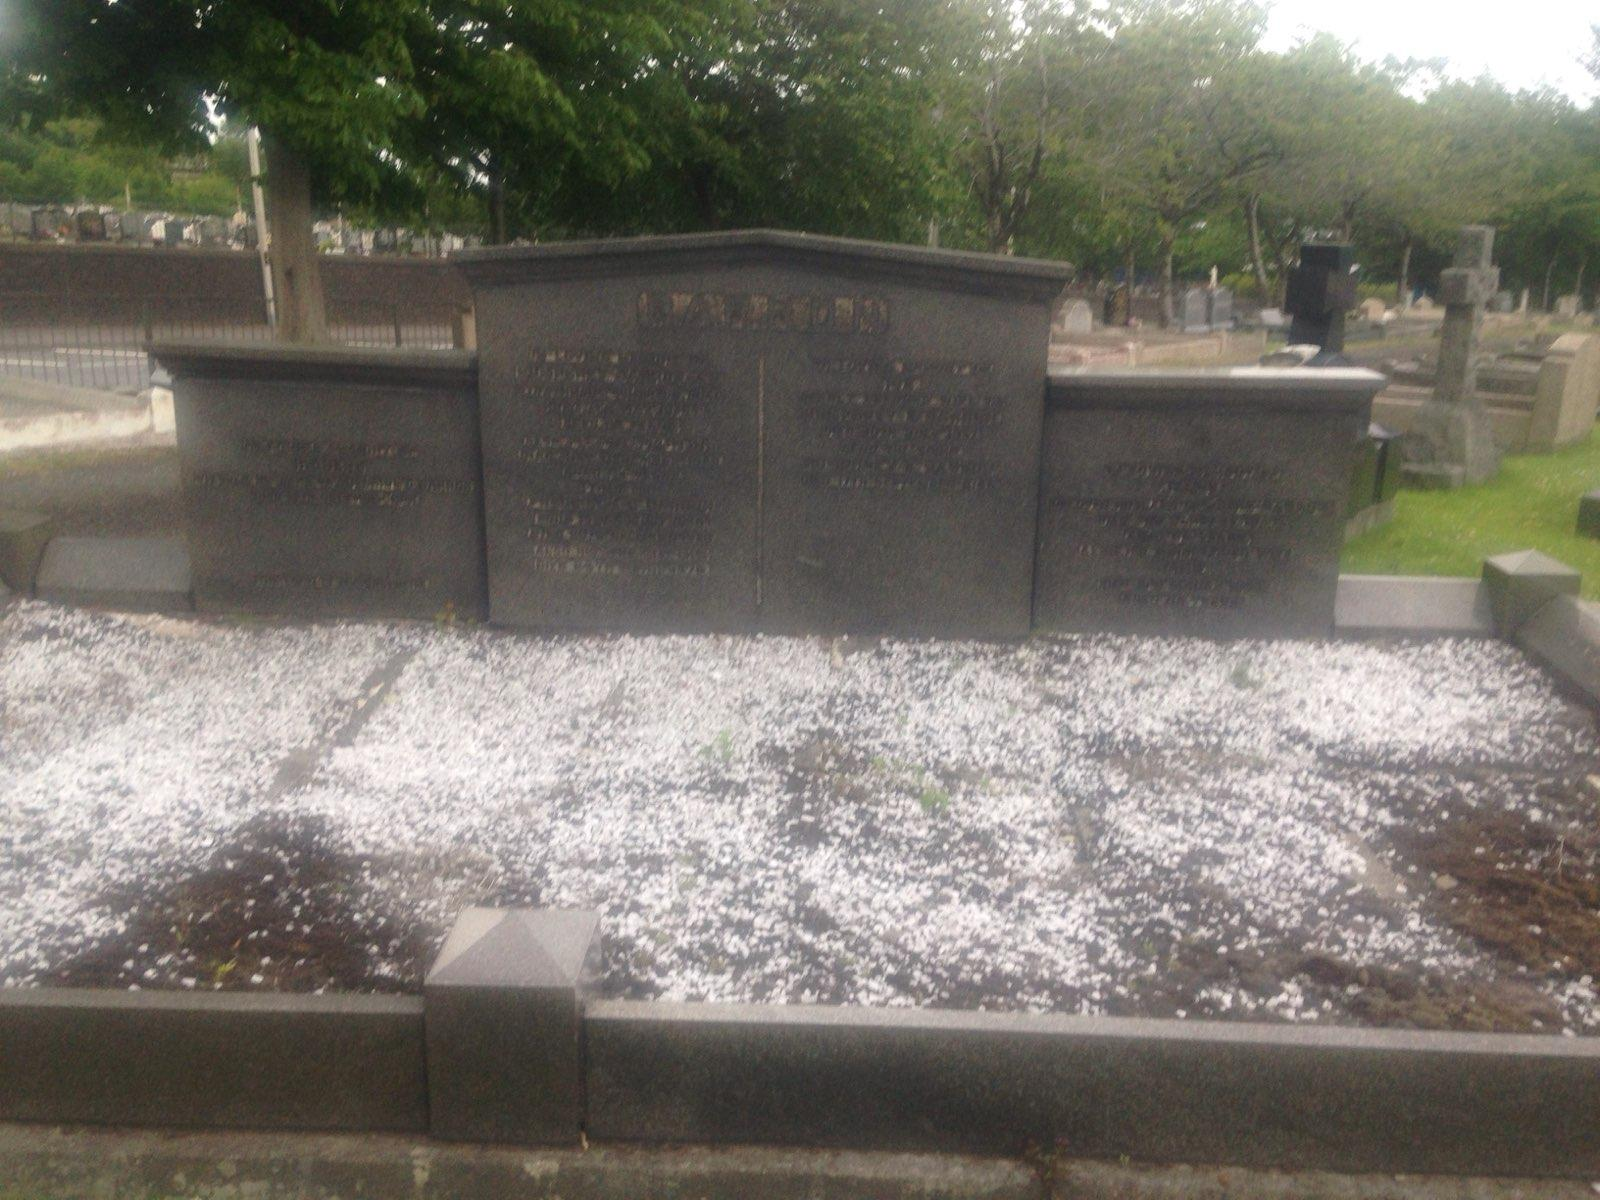upright: (120, 194, 1386, 684)
